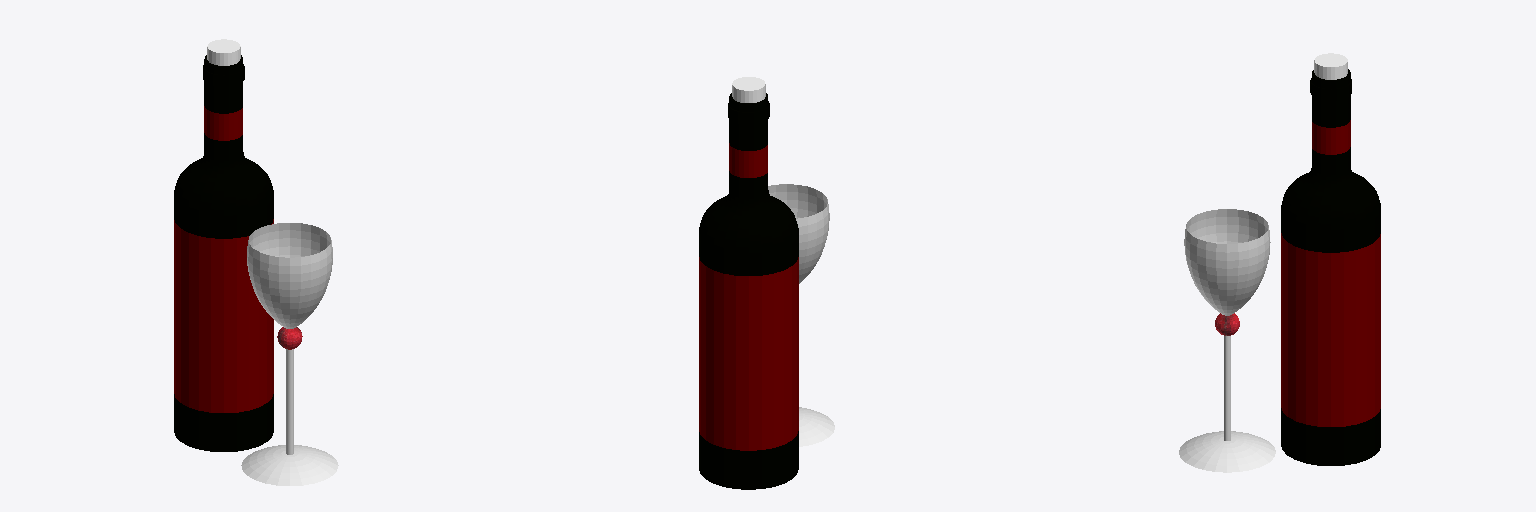
3 renders of one model, left to right at view 1: azimuth 30°, elevation 25°; view 2: azimuth 150°, elevation 25°; view 3: azimuth 270°, elevation 25°, orthographic.
Visible parts, largest first — view 1: Mesh3 Model, Mesh2 Model, Mesh1 Model; view 2: Mesh3 Model, Mesh2 Model, Mesh1 Model; view 3: Mesh3 Model, Mesh2 Model, Mesh1 Model.
Part boxes in pixels (x1,y1,x2,y2): Mesh3 Model: (174, 39, 273, 451); Mesh2 Model: (247, 223, 332, 349); Mesh1 Model: (241, 349, 338, 485); Mesh3 Model: (699, 77, 798, 489); Mesh2 Model: (768, 184, 829, 283); Mesh1 Model: (799, 407, 834, 446); Mesh3 Model: (1281, 53, 1380, 465); Mesh2 Model: (1184, 209, 1270, 335); Mesh1 Model: (1179, 336, 1275, 472).
Size of the model in its own units: 4.15 by 15.3 by 7.29.
6 materials, 1 textured.